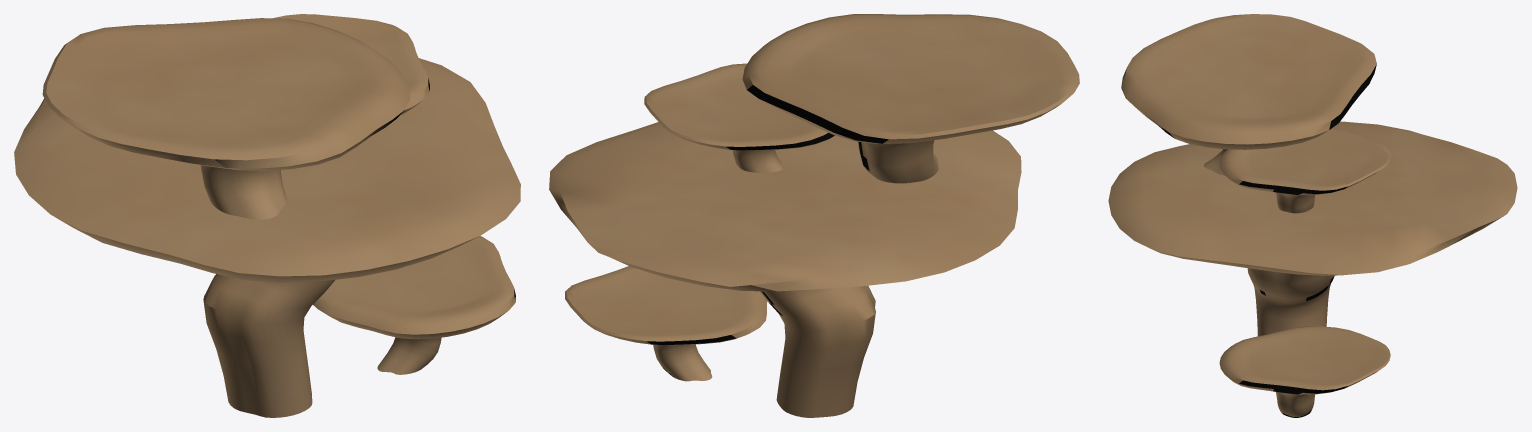
File: Coral.fbx
The picture shows the model from 3 angles, left to right: view 1: azimuth 30°, elevation 25°; view 2: azimuth 150°, elevation 25°; view 3: azimuth 270°, elevation 25°; orthographic projection. The views are drawn at different scales.
Parts seen in each view (by area): view 1: Coral_LOD0; view 2: Coral_LOD0; view 3: Coral_LOD0.
Boxes of the visible parts, x1=… form: Coral_LOD0: x1=14, y1=14, x2=520, y2=417; Coral_LOD0: x1=549, y1=14, x2=1079, y2=417; Coral_LOD0: x1=1108, y1=14, x2=1517, y2=417.
Size of what is drawn, in the model's own units: 77.62 by 56 by 78.19.
